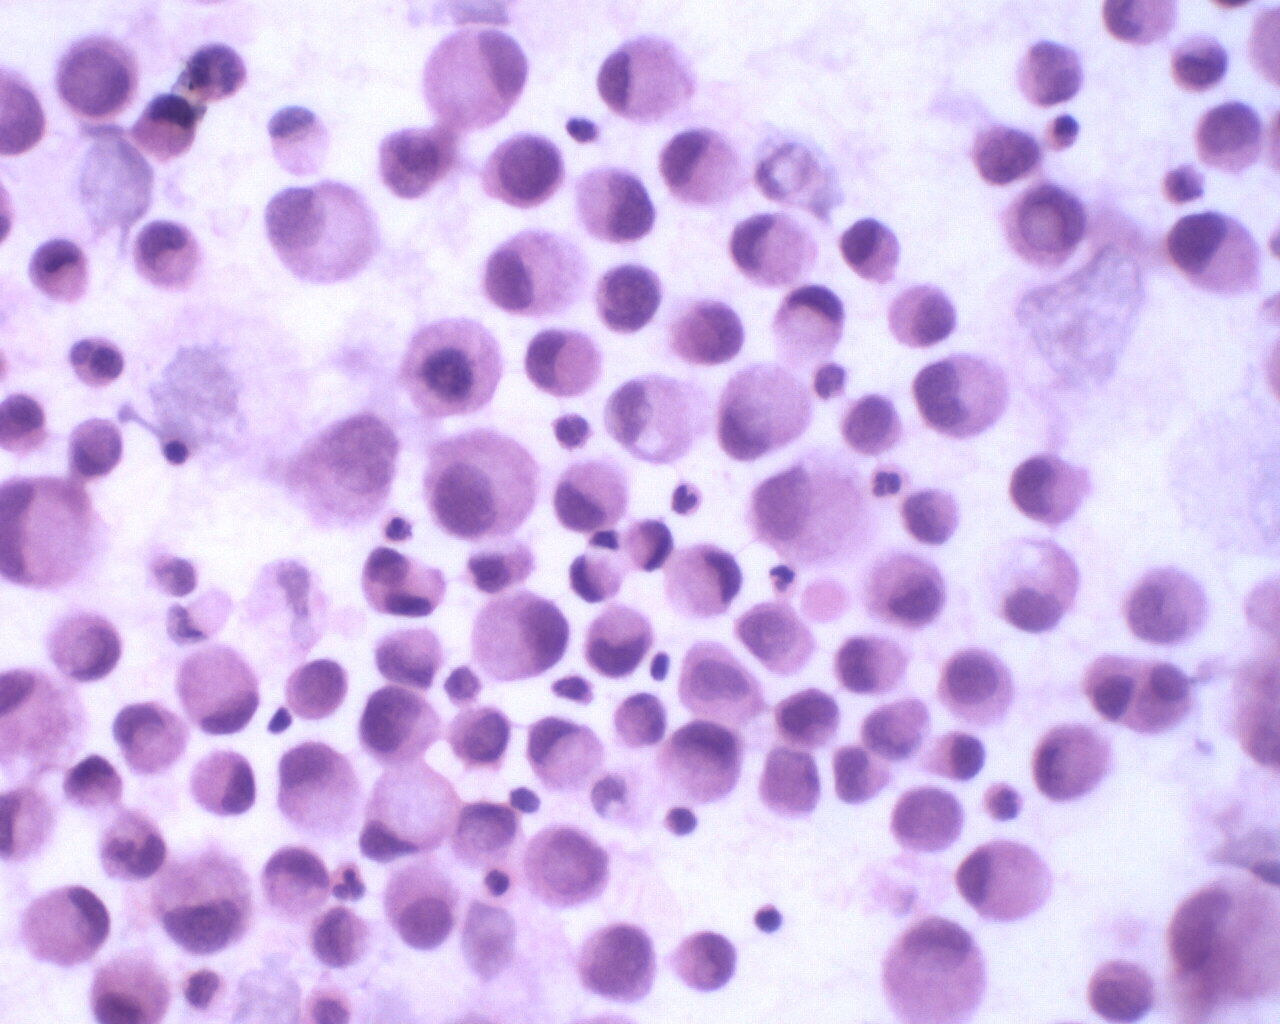ab: (56, 30, 146, 127), (523, 819, 616, 910), (997, 176, 1085, 272), (374, 119, 462, 209), (1120, 561, 1212, 647), (357, 683, 446, 767), (572, 162, 656, 249), (574, 917, 660, 1001), (479, 127, 566, 210), (594, 256, 674, 338), (1083, 949, 1165, 1024), (1194, 96, 1270, 176), (671, 296, 749, 369), (888, 786, 967, 858), (281, 648, 349, 727), (668, 925, 741, 995), (61, 412, 130, 481), (773, 685, 846, 750), (448, 700, 513, 773)
histo: (595, 19, 708, 130), (950, 833, 1061, 926), (17, 879, 116, 967), (174, 639, 263, 736), (664, 535, 743, 623), (771, 281, 851, 368), (521, 325, 607, 400)
lymph: (749, 900, 788, 939), (664, 802, 702, 840)
meso: (935, 641, 1021, 731)
neutro: (864, 460, 913, 506), (326, 859, 371, 908), (766, 556, 811, 603), (668, 478, 708, 517)
